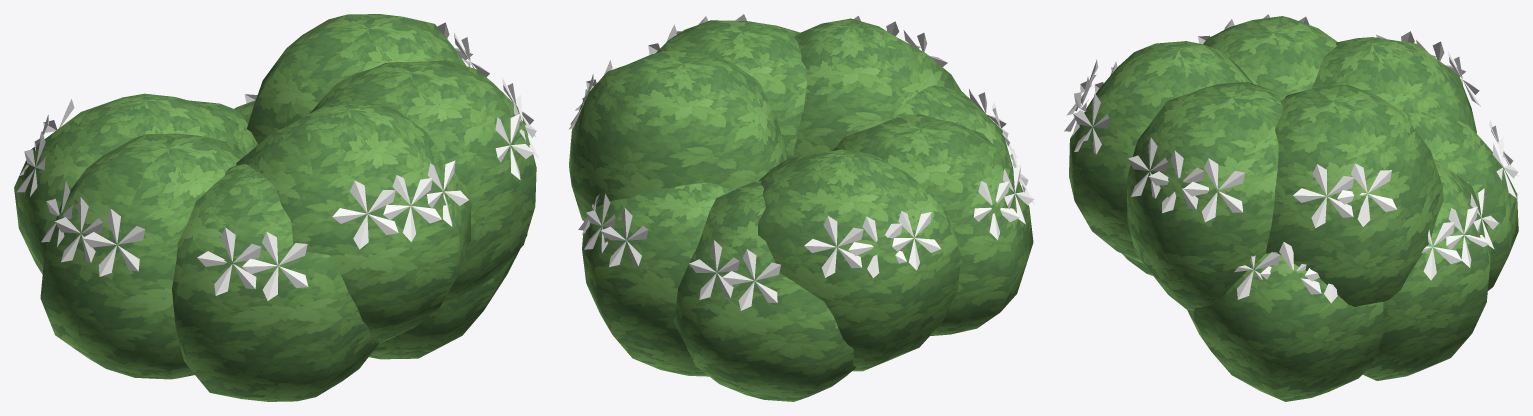
The model's file is bush.glb.
3 views of the same model, side by side, from view 1: azimuth 30°, elevation 25°; view 2: azimuth 150°, elevation 25°; view 3: azimuth 270°, elevation 25° (orthographic). The views are drawn at different scales.
Parts seen in each view (by area): view 1: bush; view 2: bush; view 3: bush.
Part boxes in pixels (<box>): bush: <box>14,14,539,401</box>; bush: <box>568,14,1034,401</box>; bush: <box>1064,14,1518,401</box>.
Bounding box in the file's own units: 1.49 × 0.9402 × 1.34.
1 material, 1 textured.
